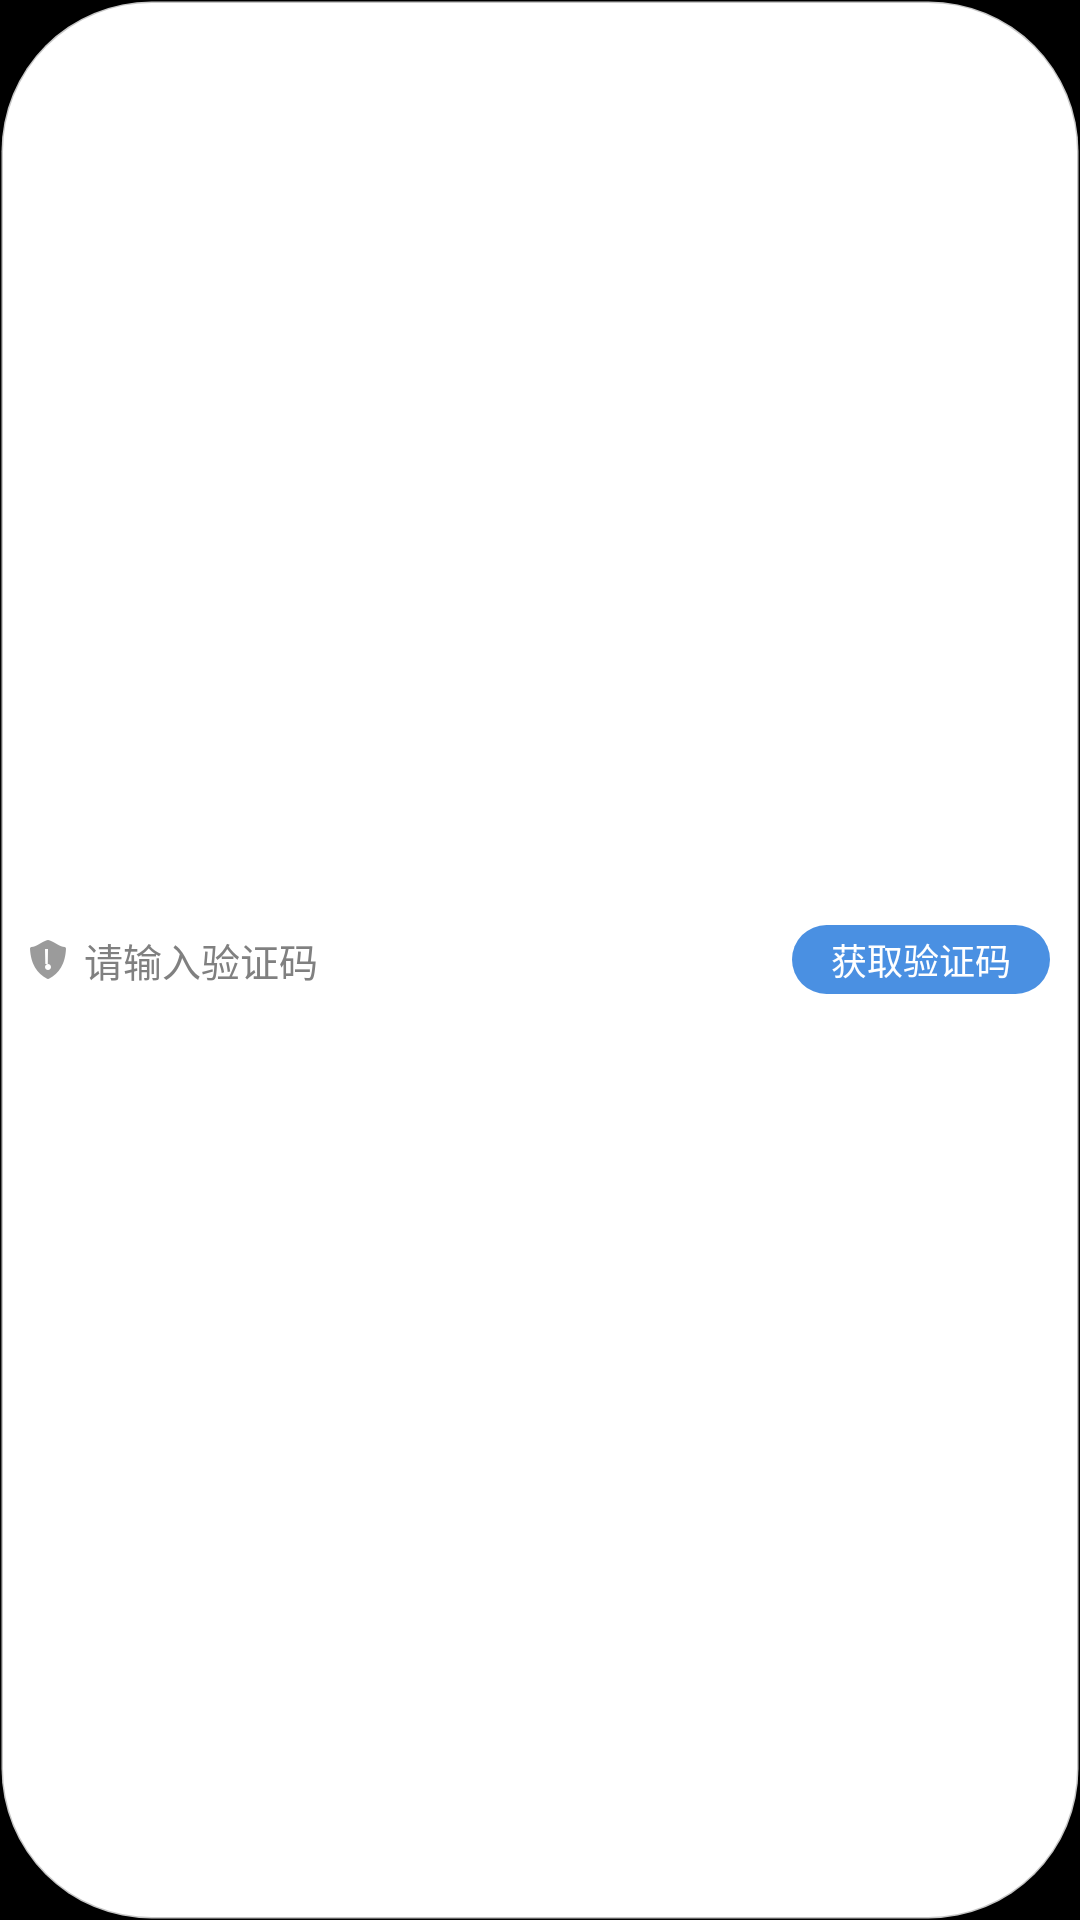

Screen size 1080w x 1920h. Icon name, then its box in pixels as (x1, y1, x2, y2):
yanzhengma: (30, 940, 66, 979)
